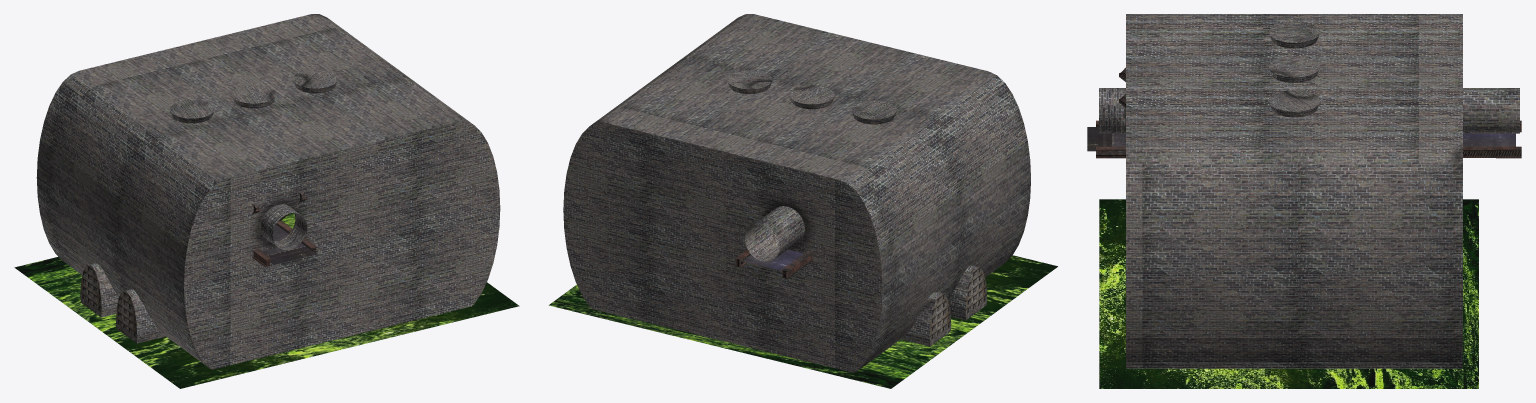
The model's file is room_1.glb.
The picture shows the model from 3 angles, left to right: view 1: azimuth 30°, elevation 25°; view 2: azimuth 150°, elevation 25°; view 3: azimuth 270°, elevation 25°; orthographic projection. The views are drawn at different scales.
Visible parts, largest first — view 1: Cube.005, Plane.004, Cylinder.002, Plane.003, Cube.001; view 2: Cube.005, Plane.004, Cylinder.002, Cube.001, Plane.003; view 3: Cube.005, Plane.004, Cylinder.002, Plane.003, Cube.001.
Part boxes in pixels (bbox=[...]): Cube.005: bbox=[36, 14, 500, 369]; Plane.004: bbox=[14, 213, 519, 388]; Cylinder.002: bbox=[170, 69, 337, 123]; Plane.003: bbox=[262, 225, 316, 264]; Cube.001: bbox=[252, 191, 317, 266]; Cube.005: bbox=[563, 14, 1030, 372]; Plane.004: bbox=[549, 255, 1057, 388]; Cylinder.002: bbox=[727, 70, 896, 124]; Cube.001: bbox=[735, 233, 813, 278]; Plane.003: bbox=[742, 249, 803, 270]; Cube.005: bbox=[1099, 14, 1519, 368]; Plane.004: bbox=[1099, 199, 1478, 388]; Cylinder.002: bbox=[1268, 21, 1320, 117]; Plane.003: bbox=[1087, 127, 1515, 151]; Cube.001: bbox=[1096, 67, 1521, 158].
Bounding box in the file's own units: 29.32 × 18.63 × 28.38.
7 materials, 7 textured.
